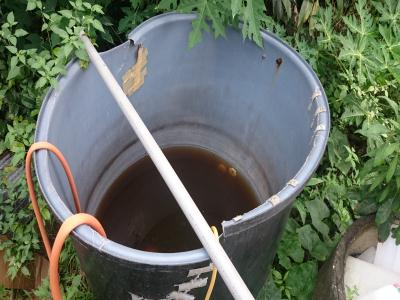bucket: (26, 6, 336, 297)
